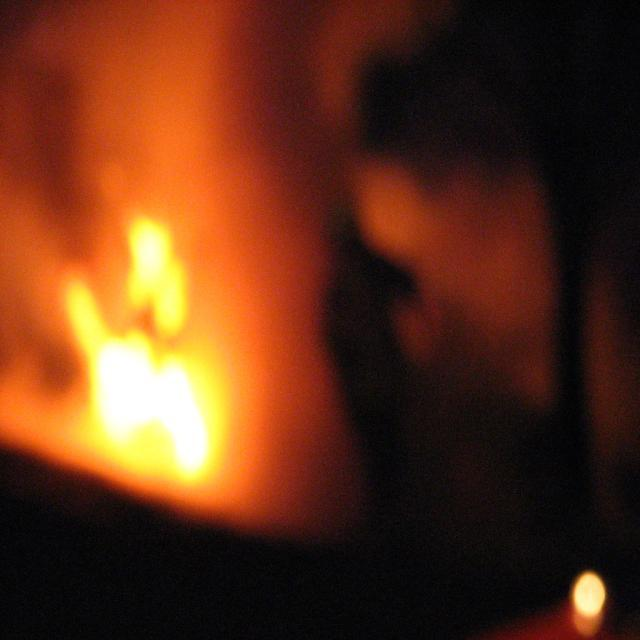Fire: (76, 320, 228, 472)
